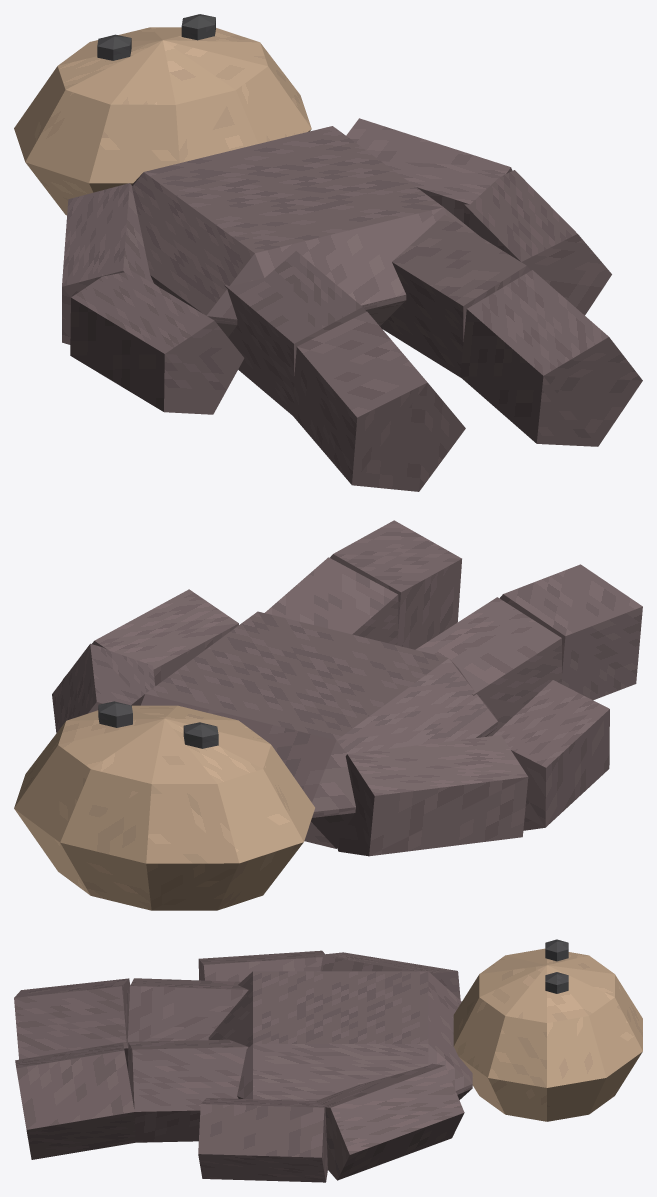
The model's file is creepy_doll.glb.
3 renders of one model, top to bottom at view 1: azimuth 30°, elevation 25°; view 2: azimuth 150°, elevation 25°; view 3: azimuth 270°, elevation 25°, orthographic. The views are drawn at different scales.
Visible parts, largest first — view 1: block_doll leg 1 (×2), block_small toy torso, block_toy head, block_doll arm 1 (×2), block_doll leg 0 (×2), block_doll arm 0 (×2), block_eye (×2); view 2: block_toy head, block_small toy torso, block_doll arm 0 (×2), block_doll leg 1 (×2), block_doll arm 1 (×2), block_doll leg 0 (×2), block_eye (×2); view 3: block_small toy torso, block_toy head, block_doll leg 1 (×2), block_doll leg 0 (×2), block_doll arm 0 (×2), block_doll arm 1 (×2), block_eye (×2).
Boxes of the visible parts, x1,y1,x2,y2 form: block_doll leg 1 (×2): (293, 270, 642, 491); block_small toy torso: (131, 126, 480, 336); block_toy head: (14, 27, 311, 215); block_doll arm 1 (×2): (70, 170, 611, 414); block_doll leg 0 (×2): (224, 214, 530, 416); block_doll arm 0 (×2): (62, 118, 512, 344); block_eye (×2): (97, 14, 215, 60); block_toy head: (14, 705, 314, 910); block_small toy torso: (131, 611, 497, 848); block_doll arm 0 (×2): (52, 643, 528, 856); block_doll leg 1 (×2): (330, 520, 642, 700); block_doll arm 1 (×2): (63, 589, 609, 830); block_doll leg 0 (×2): (265, 557, 561, 736); block_eye (×2): (98, 701, 218, 748); block_small toy torso: (208, 971, 472, 1100); block_toy head: (453, 948, 642, 1121); block_doll leg 1 (×2): (14, 978, 135, 1159); block_doll leg 0 (×2): (127, 978, 248, 1142); block_doll arm 0 (×2): (314, 952, 464, 1180); block_doll arm 1 (×2): (198, 950, 327, 1182); block_eye (×2): (545, 939, 568, 993).
Size of the model in its own units: 0.1181 by 0.048 by 0.1707.
Materials: 1 (1 with a texture image).
